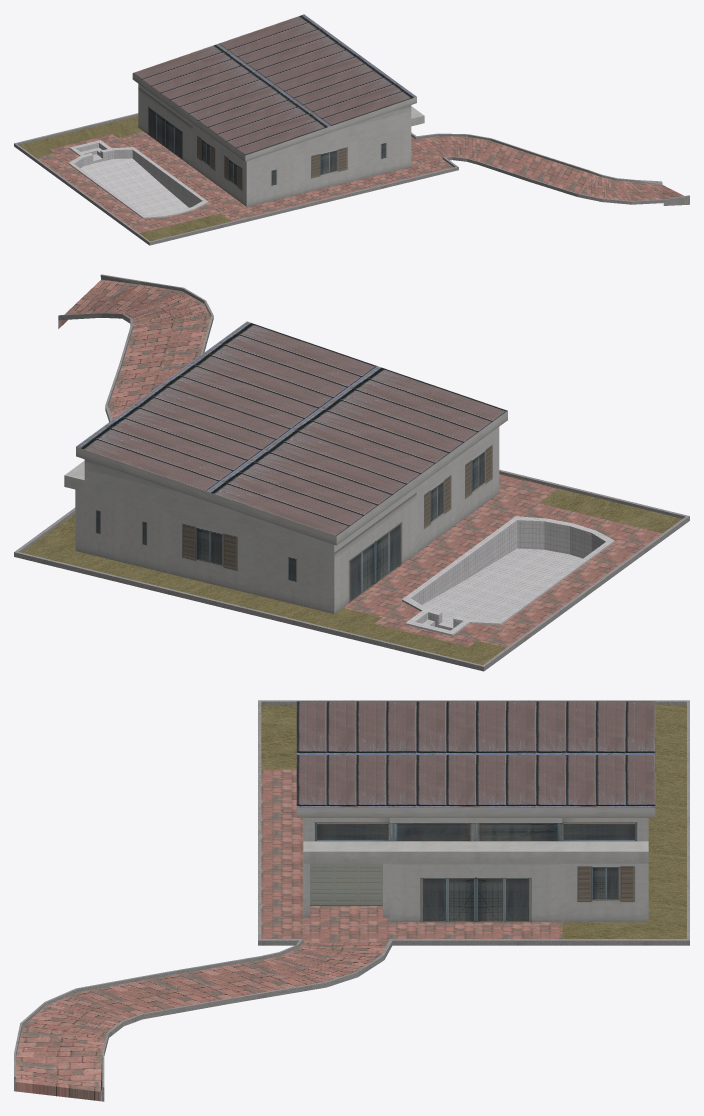
The model's file is bigboxtmp17.obj.
3 views of the same model, one above another, from view 1: azimuth 30°, elevation 25°; view 2: azimuth 150°, elevation 25°; view 3: azimuth 270°, elevation 25° (orthographic). The views are drawn at different scales.
Parts seen in each view (by area): view 1: bigboxtmp17; view 2: bigboxtmp17; view 3: bigboxtmp17.
Part boxes in pixels (<box>): bigboxtmp17: <box>14,14,689,245</box>; bigboxtmp17: <box>14,274,689,671</box>; bigboxtmp17: <box>14,700,689,1101</box>.
Bounding box in the file's own units: 51.85 × 10.09 × 41.08.
9 materials, 9 textured.
